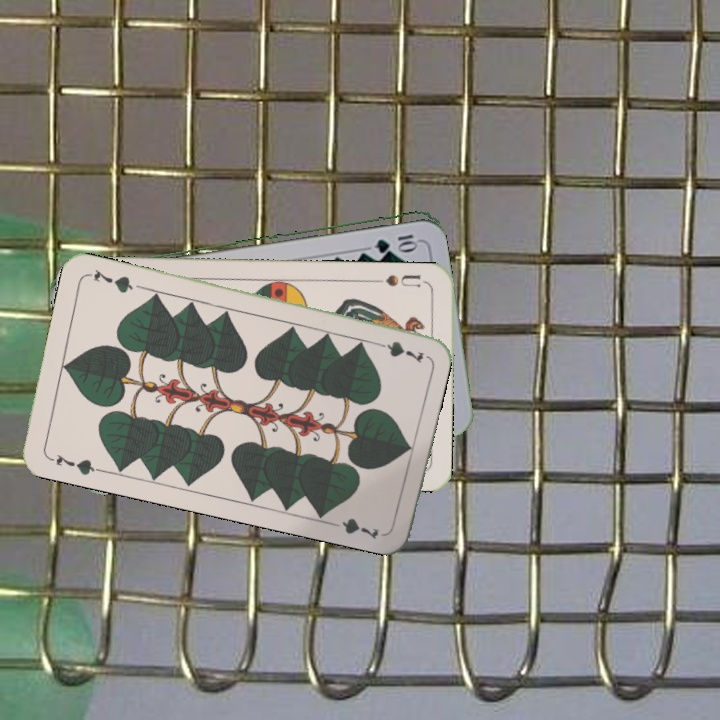G10: (370, 230, 420, 252)
G7: (44, 450, 103, 478), (368, 337, 426, 364)
SU: (370, 270, 429, 289)
